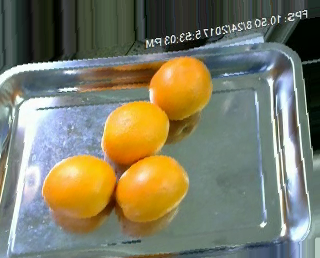Orange: (114, 152, 189, 222), (42, 152, 117, 217), (100, 101, 170, 167), (148, 55, 213, 119)
